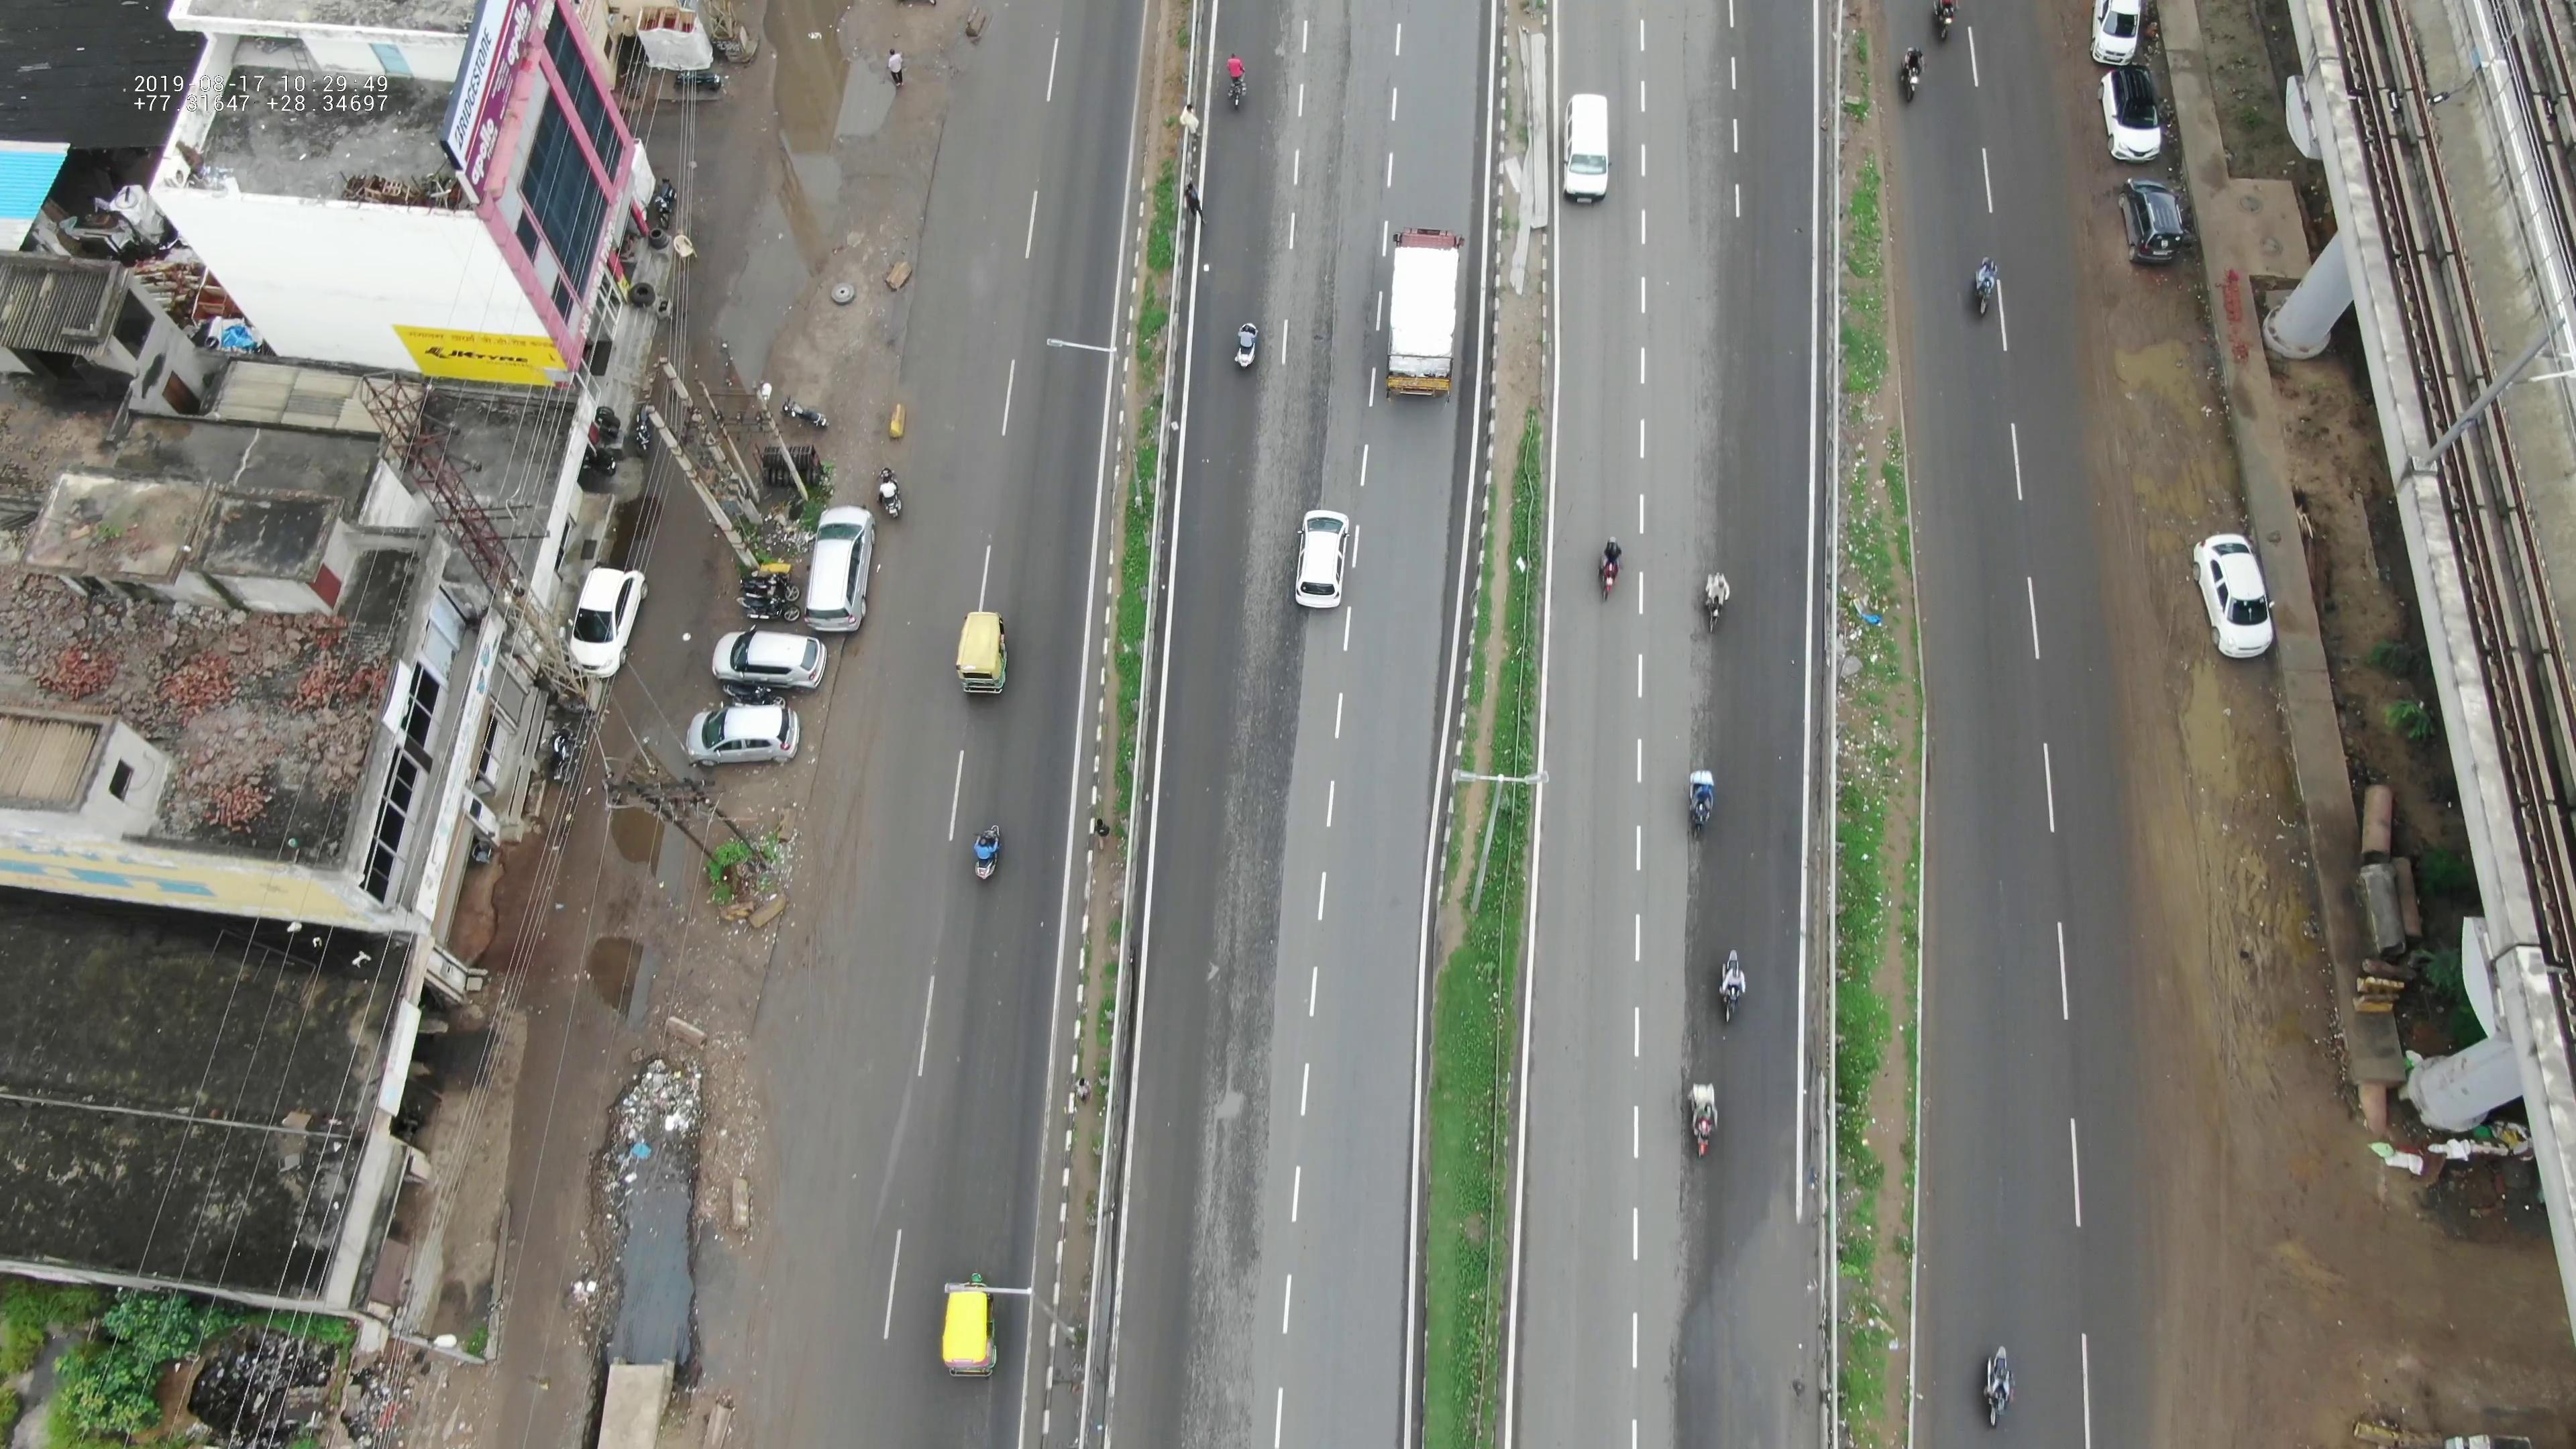Muddy_road: (2157, 971, 2316, 1373), (2176, 674, 2272, 955), (2109, 310, 2206, 529)
Potholes: (584, 996, 775, 1362)
